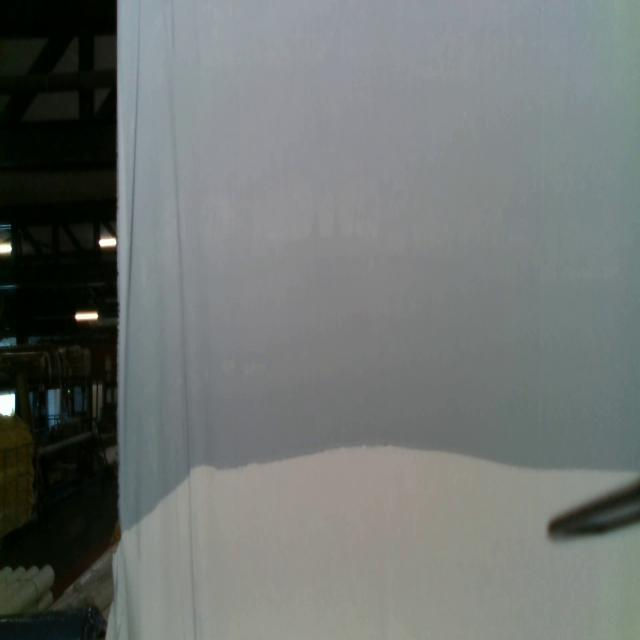crease: (173, 106, 197, 640)
